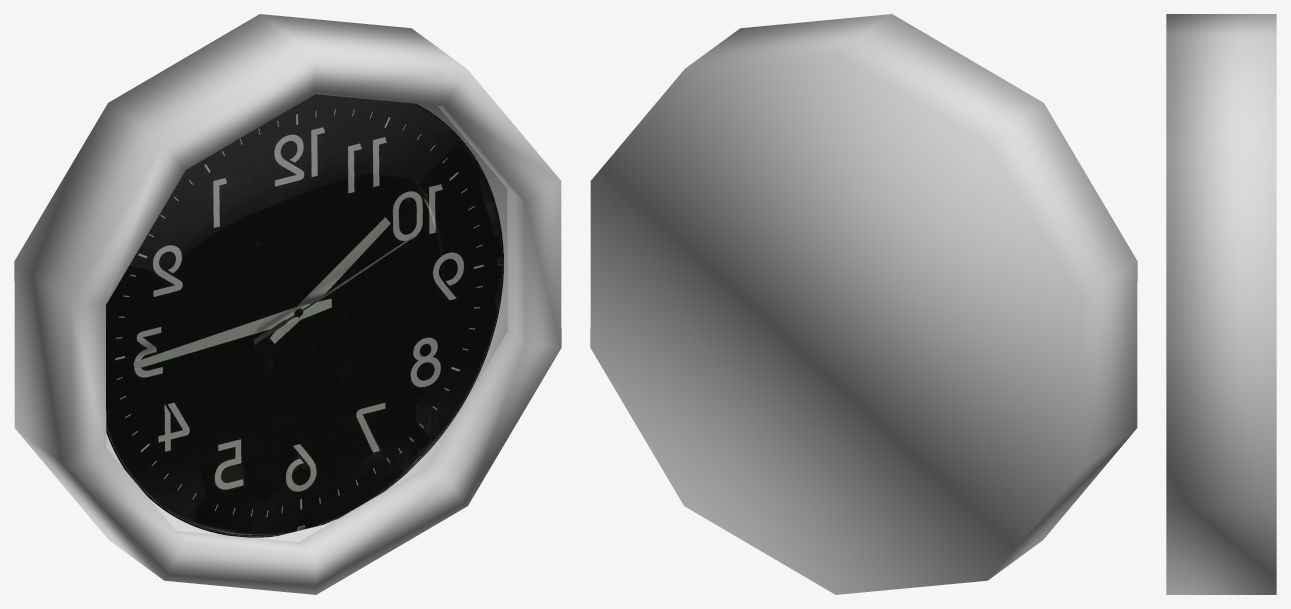
Rendered from reloj.fbx.
3 renders of one model, left to right at view 1: azimuth 30°, elevation 25°; view 2: azimuth 150°, elevation 25°; view 3: azimuth 270°, elevation 25°, orthographic.
Parts seen in each view (by area): view 1: Cilindro; view 2: Cilindro; view 3: Cilindro.
Part boxes in pixels (x1,y1,x2,y2): Cilindro: (14, 14, 561, 594); Cilindro: (590, 14, 1137, 594); Cilindro: (1166, 14, 1276, 594).
Bounding box in the file's own units: 289 × 304 × 56.52.
